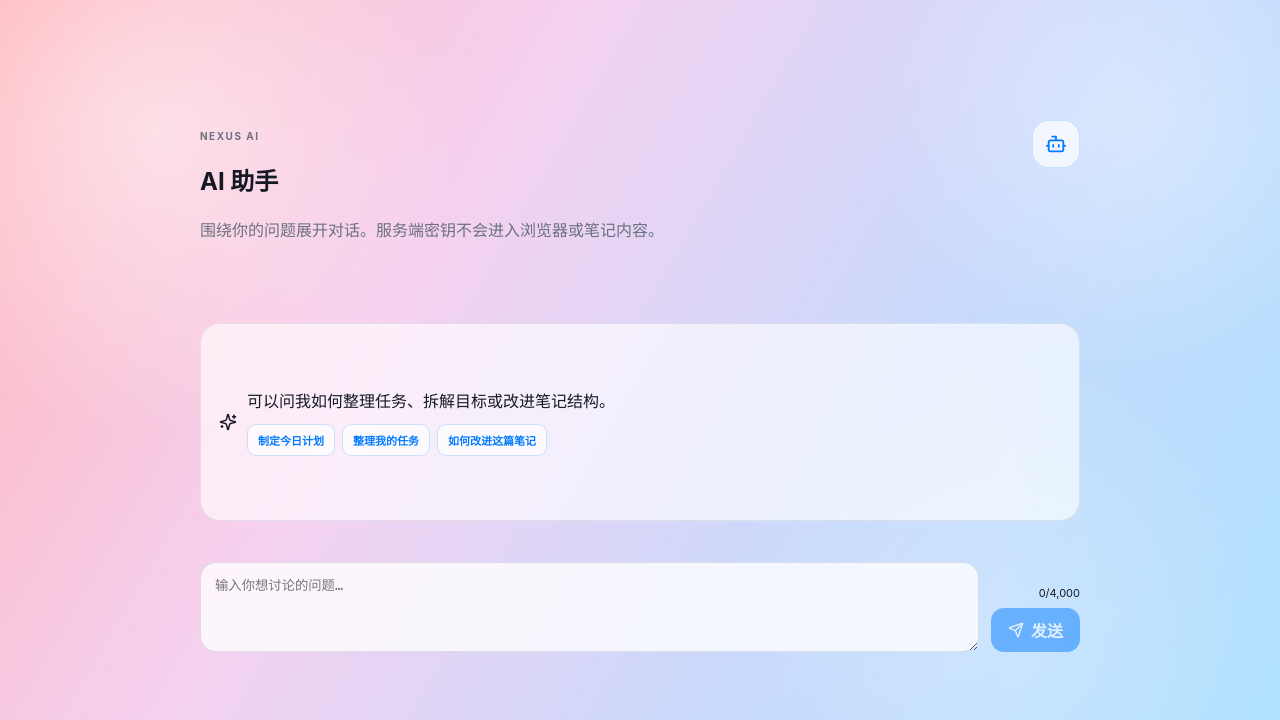
Test case: AIChatPanel › sends the conversation through the workspace-scoped API client and renders the reply
The image size is (1280, 720).
Type "帮我排优先级" into the text box named "输入问题" at (590, 607), box [200,562,979,652]
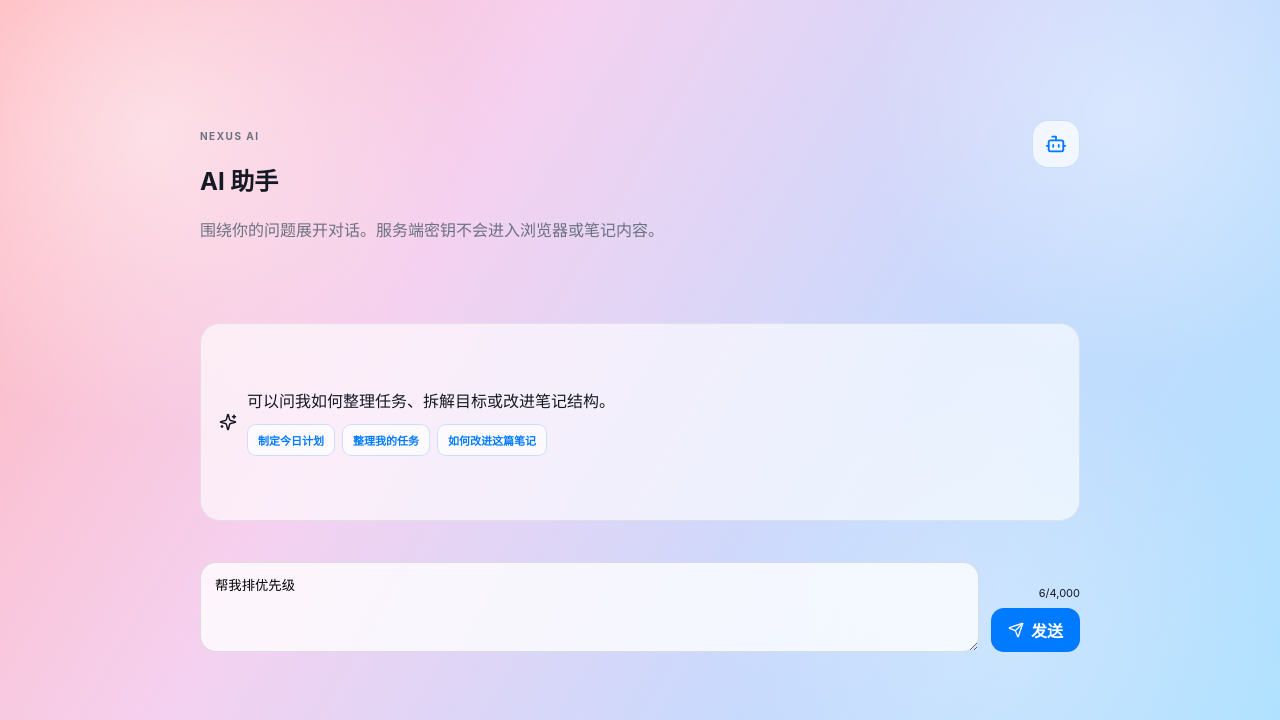
Click the button "发送" at (1036, 630), box [991,608,1080,652]
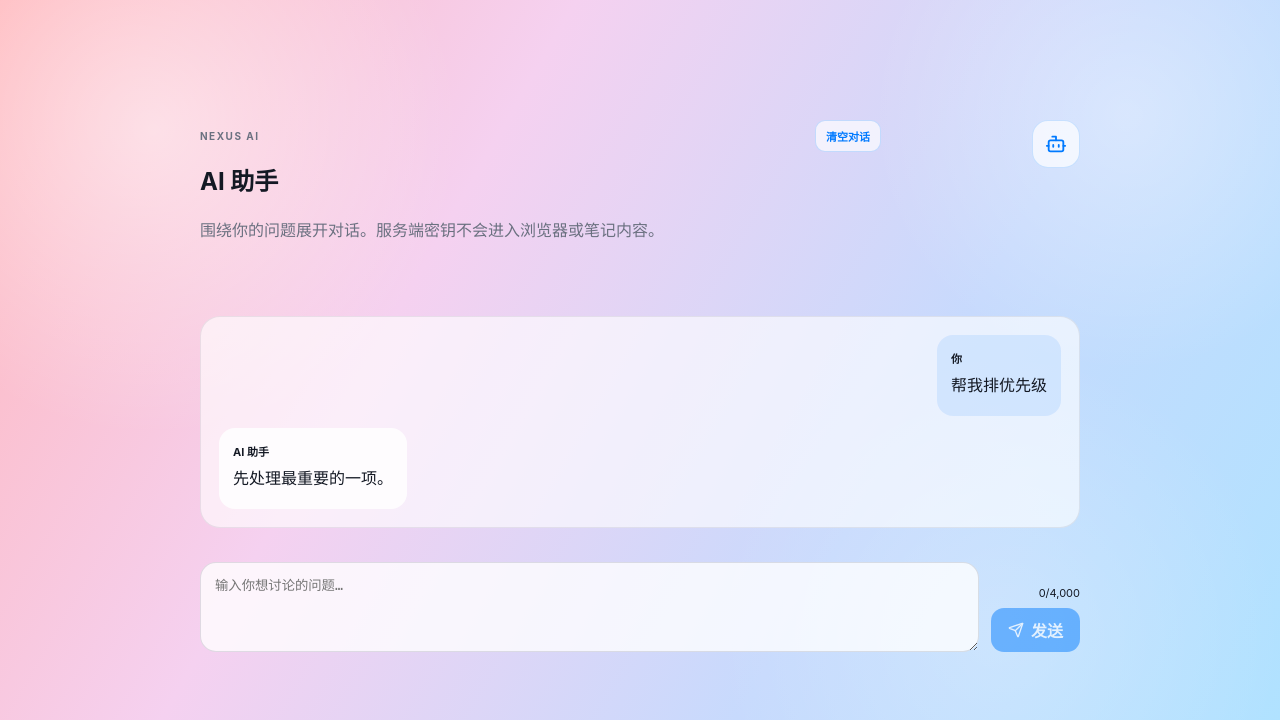
Expected: the text "先处理最重要的一项。" is shown, [233,465,393,491]
